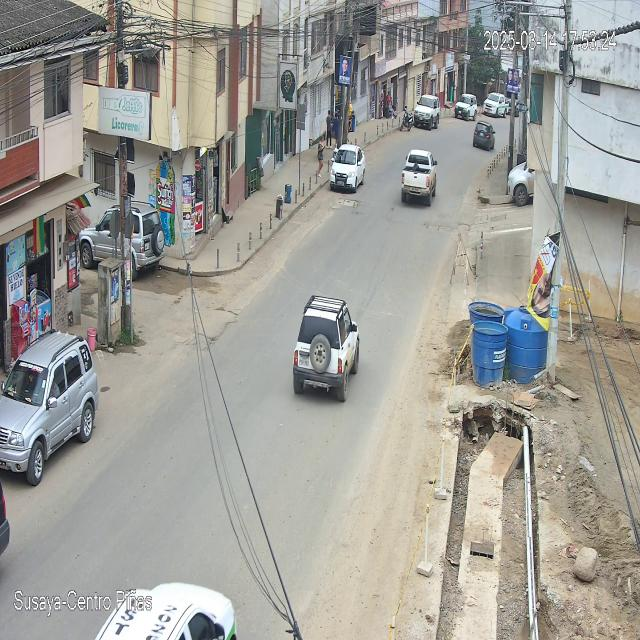SUV: (0, 339, 102, 488), (292, 296, 359, 404)
